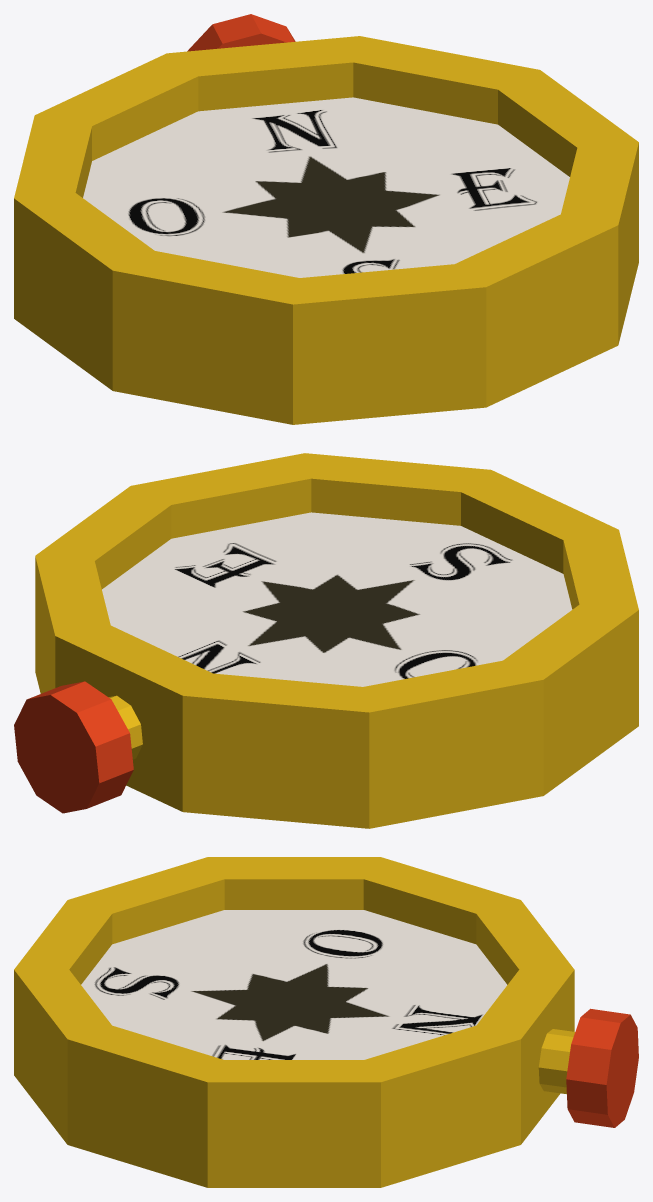
The model's file is Compas.fbx.
3 renders of one model, top to bottom at view 1: azimuth 30°, elevation 25°; view 2: azimuth 150°, elevation 25°; view 3: azimuth 270°, elevation 25°, orthographic. The views are drawn at different scales.
Parts seen in each view (by area): view 1: Cylinder.002; view 2: Cylinder.002; view 3: Cylinder.002.
Part boxes in pixels (bbox=[...]): Cylinder.002: bbox=[14, 14, 638, 424]; Cylinder.002: bbox=[14, 453, 638, 828]; Cylinder.002: bbox=[14, 857, 638, 1187].
Size of the model in its own units: 190 by 42.92 by 223.
1 material, 1 textured.
